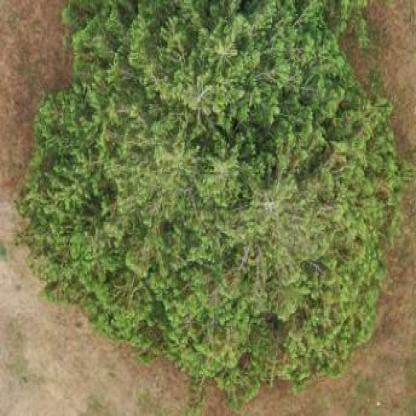Coniferous Tree: (17, 0, 401, 399)
